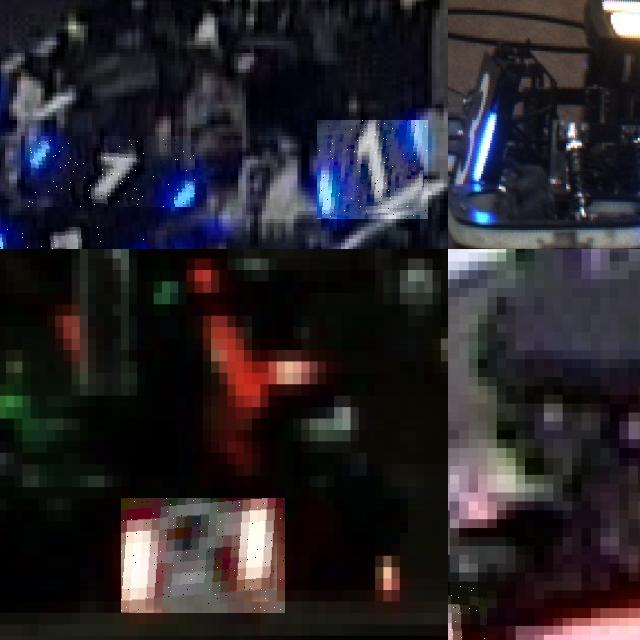B1: (25, 136, 195, 207), (317, 120, 428, 219), (0, 227, 147, 249)
Rs: (121, 498, 285, 613)
